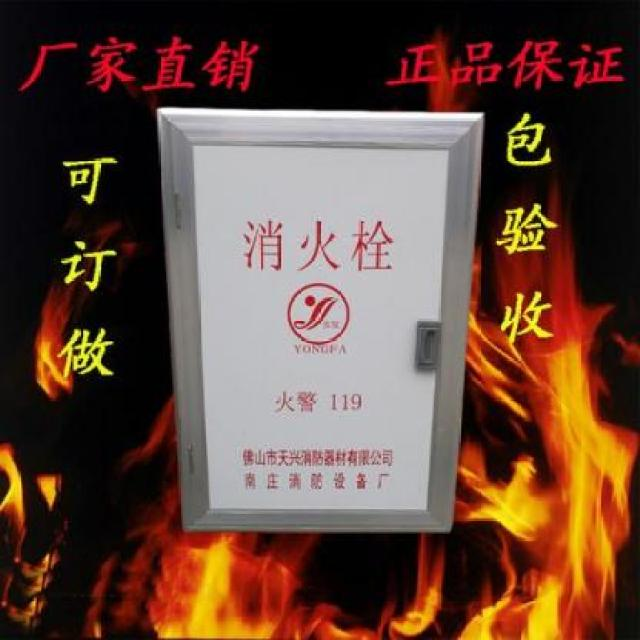firehydrant: (154, 103, 487, 537)
